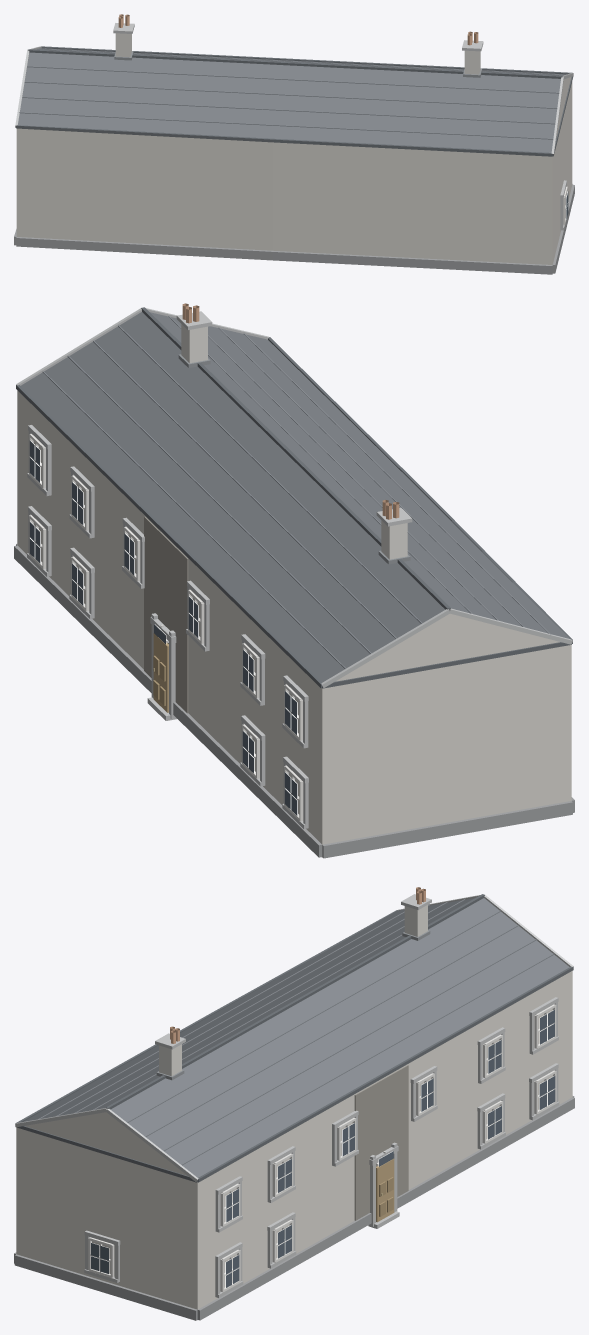
3 views of the same model, one above another, from view 1: azimuth 30°, elevation 25°; view 2: azimuth 150°, elevation 25°; view 3: azimuth 270°, elevation 25° (orthographic). The views are drawn at different scales.
Parts seen in each view (by area): view 1: harl_grey, slate, plinth, slate_dk, slate_lt, stone_band, chim_render; view 2: slate, harl_grey, stone_band, plinth, slate_dk, slate_lt, rubble, frame, chim_render; view 3: harl_grey, slate, stone_band, plinth, slate_dk, slate_lt, rubble, frame, chim_render, door_wood.
Boxes of the visible parts, <box> form: harl_grey: <box>16,77,572,264</box>; slate: <box>18,48,562,152</box>; plinth: <box>14,184,574,274</box>; slate_dk: <box>15,46,573,156</box>; slate_lt: <box>19,48,566,139</box>; stone_band: <box>15,23,573,230</box>; chim_render: <box>115,33,480,74</box>; slate: <box>21,312,569,682</box>; harl_grey: <box>17,390,571,857</box>; stone_band: <box>16,308,572,828</box>; plinth: <box>14,544,574,858</box>; slate_dk: <box>16,307,572,688</box>; slate_lt: <box>42,316,550,668</box>; rubble: <box>144,516,188,713</box>; frame: <box>29,434,303,821</box>; chim_render: <box>181,324,407,559</box>; harl_grey: <box>16,971,572,1320</box>; slate: <box>23,898,569,1177</box>; stone_band: <box>15,894,573,1297</box>; plinth: <box>14,1096,574,1320</box>; slate_dk: <box>15,894,573,1182</box>; slate_lt: <box>38,899,554,1165</box>; rubble: <box>354,1065,408,1220</box>; frame: <box>88,1004,556,1292</box>; chim_render: <box>159,905,427,1076</box>; door_wood: <box>376,1158,394,1222</box>.
Size of the model in its own units: 23.09 by 9.22 by 20.2.
